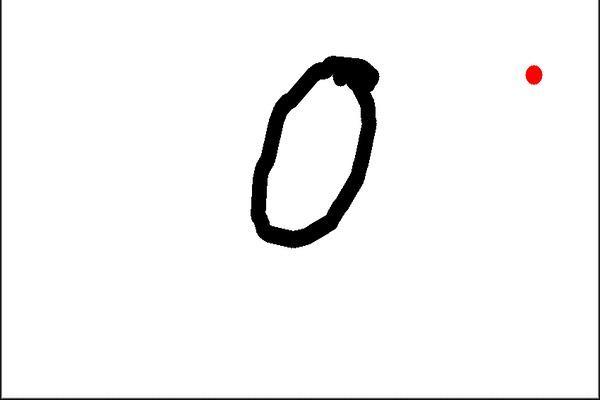O: (232, 41, 385, 254)
